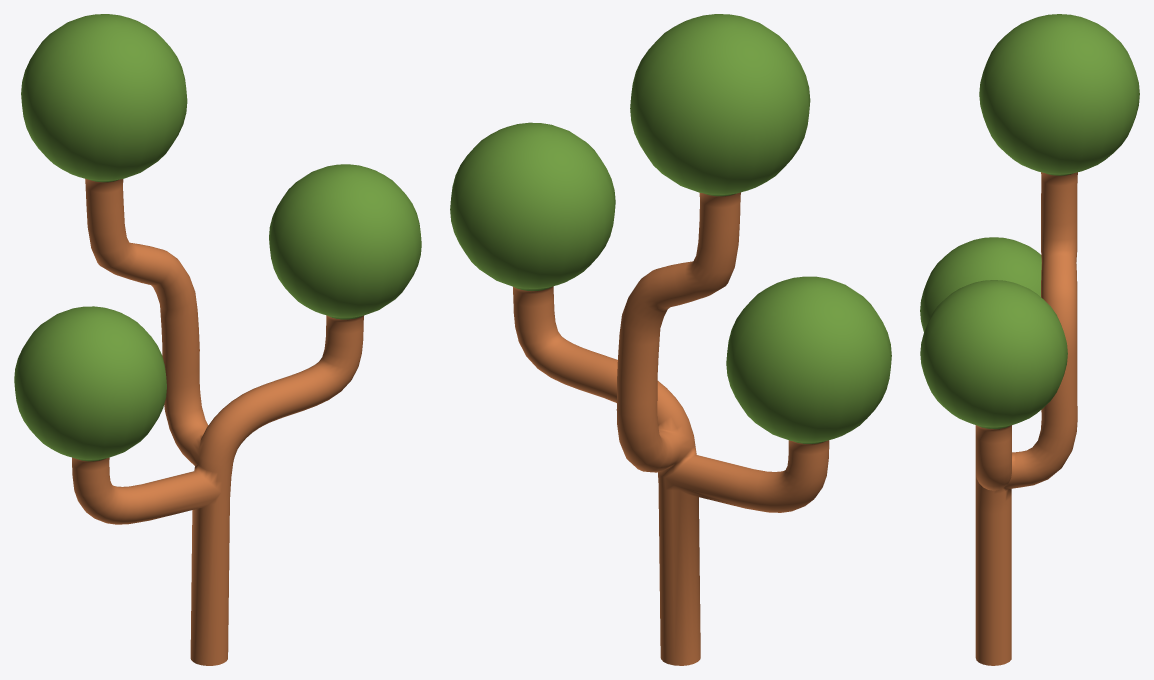
Rendered from tree7.glb.
3 views of the same model, side by side, from view 1: azimuth 30°, elevation 25°; view 2: azimuth 150°, elevation 25°; view 3: azimuth 270°, elevation 25° (orthographic). The views are drawn at different scales.
Visible parts, largest first — view 1: node_id164; view 2: node_id164; view 3: node_id164.
Part boxes in pixels (x1,y1,x2,y2): node_id164: (14,14,421,665); node_id164: (450,14,891,665); node_id164: (920,14,1139,665).
Size of the model in its own units: 0.3307 by 0.512 by 0.169.
Materials: 1 (1 with a texture image).
